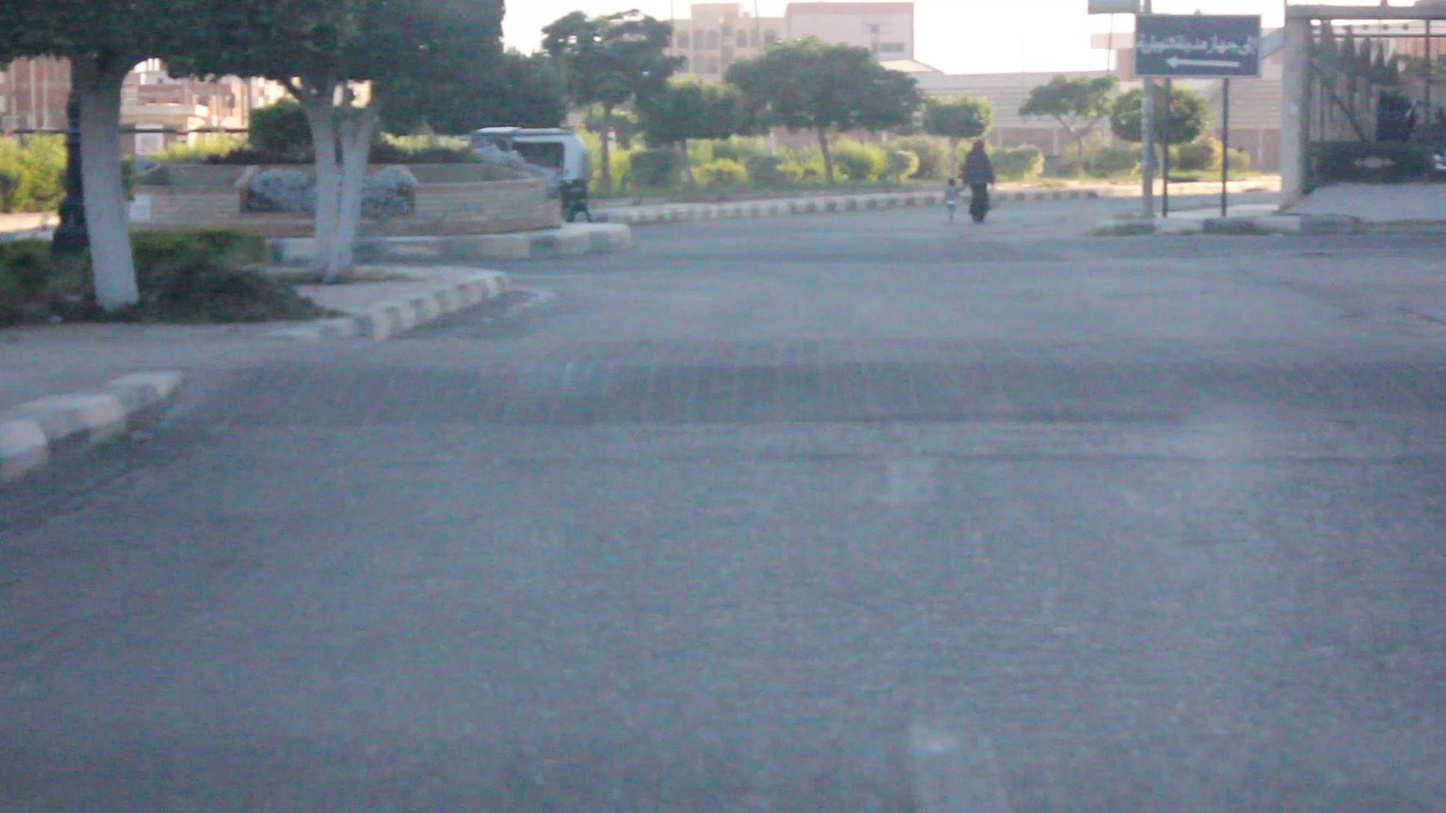Bump: (230, 333, 1446, 452)
